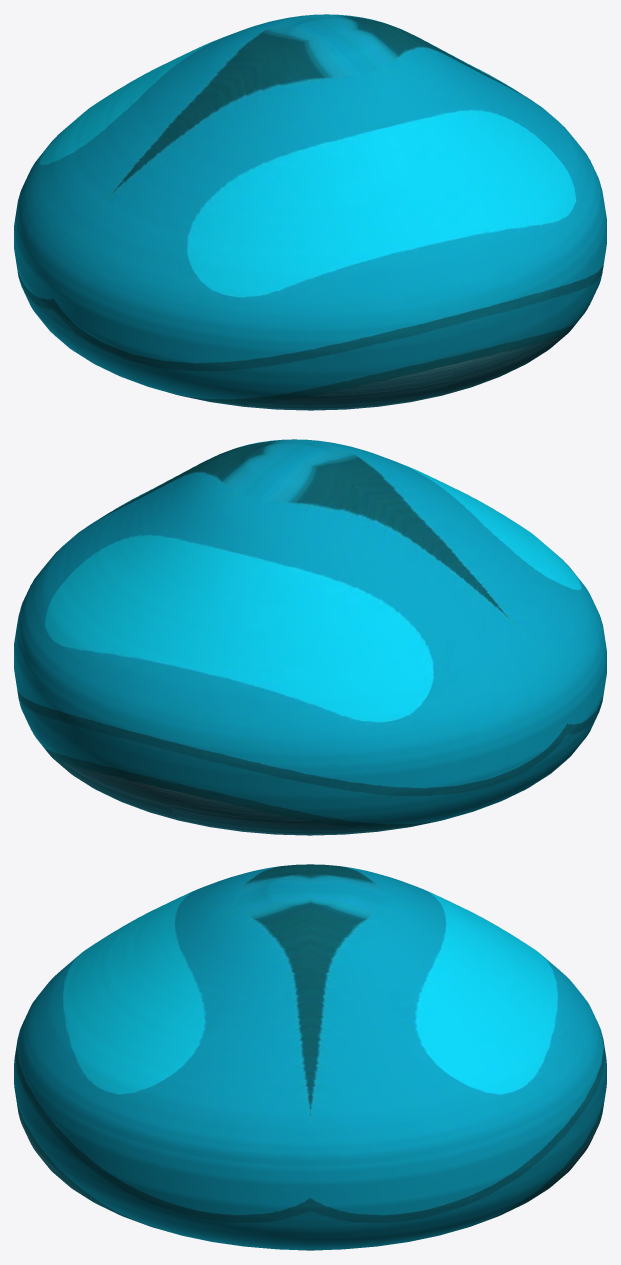
Rendered from blue_boulder.glb.
The picture shows the model from 3 angles, top to bottom: view 1: azimuth 30°, elevation 25°; view 2: azimuth 150°, elevation 25°; view 3: azimuth 270°, elevation 25°; orthographic projection.
Visible parts, largest first — view 1: blue_boulder; view 2: blue_boulder; view 3: blue_boulder.
Part boxes in pixels (x1=…): blue_boulder: x1=14, y1=14, x2=606, y2=410; blue_boulder: x1=14, y1=439, x2=606, y2=835; blue_boulder: x1=14, y1=864, x2=606, y2=1250.
Bounding box in the file's own units: 1 × 0.5114 × 1.
1 material, 1 textured.
